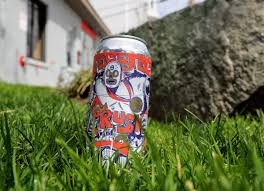can: (90, 31, 150, 167)
